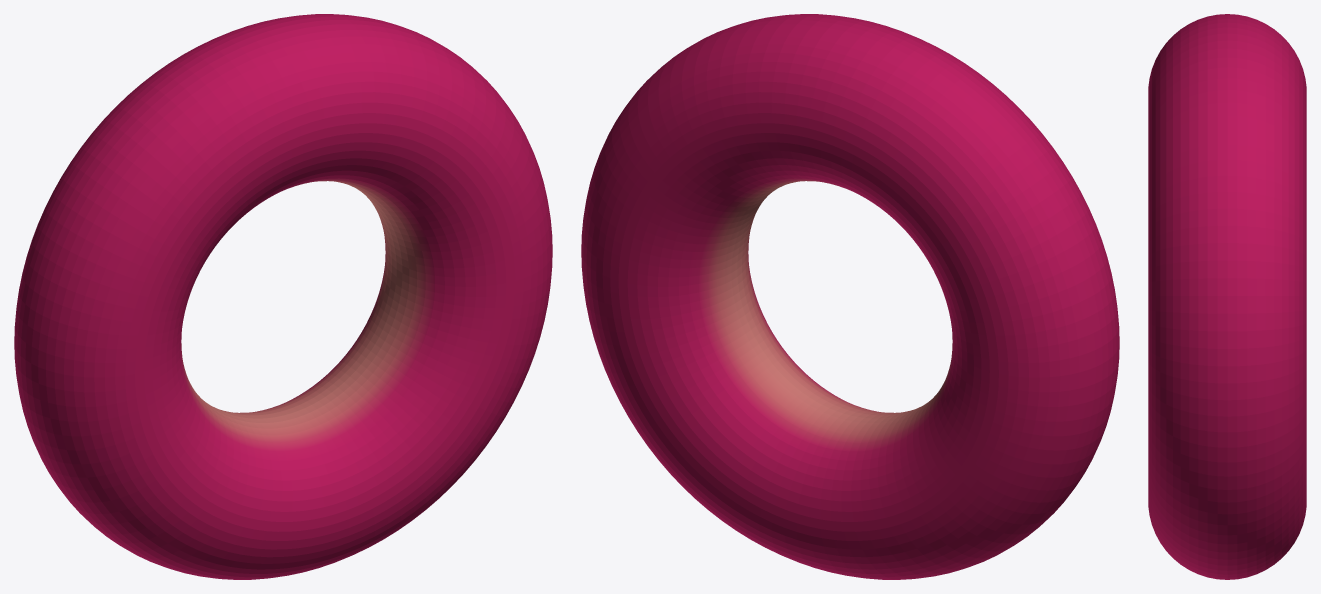
3 views of the same model, side by side, from view 1: azimuth 30°, elevation 25°; view 2: azimuth 150°, elevation 25°; view 3: azimuth 270°, elevation 25° (orthographic). The views are drawn at different scales.
Visible parts, largest first — view 1: world; view 2: world; view 3: world.
Part boxes in pixels (x1=…): world: x1=14, y1=14, x2=552, y2=579; world: x1=581, y1=14, x2=1119, y2=579; world: x1=1148, y1=14, x2=1306, y2=579.
Bounding box in the file's own units: 18.53 × 18.53 × 5.19.
